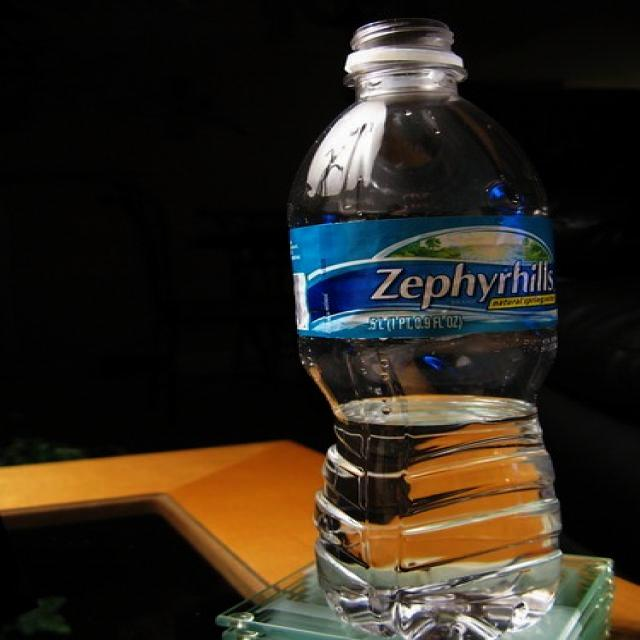bottle: (286, 17, 562, 640)
